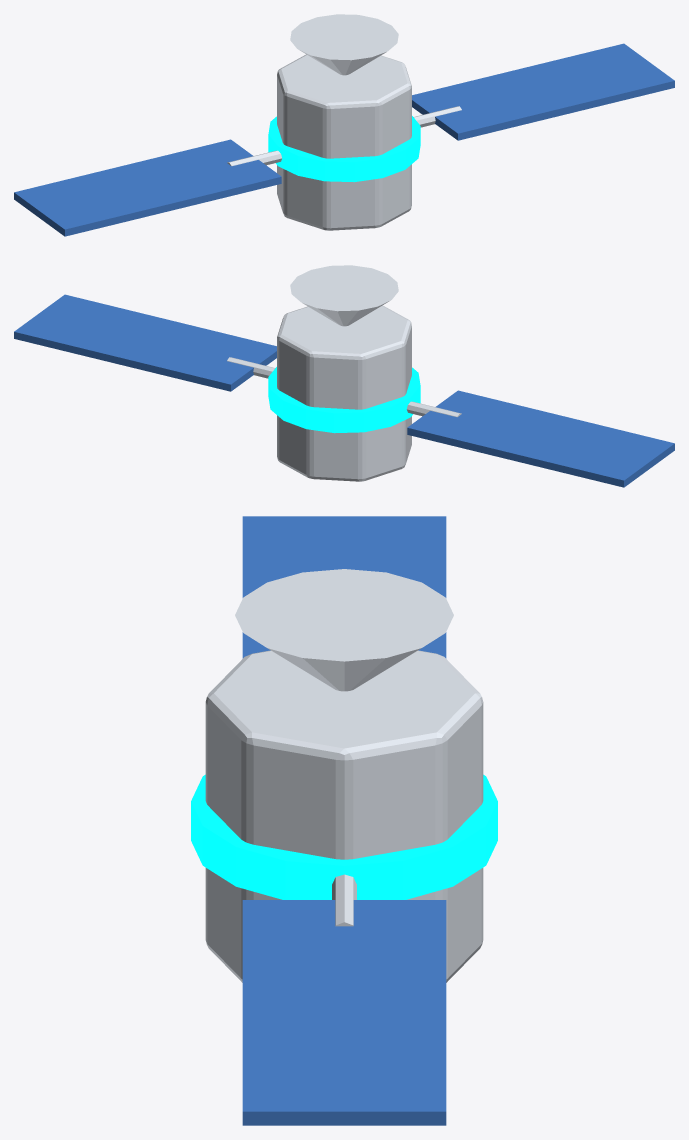
Rendered from satellite_space.glb.
3 views of the same model, one above another, from view 1: azimuth 30°, elevation 25°; view 2: azimuth 150°, elevation 25°; view 3: azimuth 270°, elevation 25° (orthographic). The views are drawn at different scales.
Parts seen in each view (by area): view 1: Cylinder, Cube, Cube.001, Cone, Cylinder.001, Cylinder.002, Cylinder.003; view 2: Cylinder, Cube, Cube.001, Cone, Cylinder.001, Cylinder.002, Cylinder.003; view 3: Cylinder, Cube.001, Cone, Cylinder.001, Cube, Cylinder.003.
Boxes of the visible parts, x1,y1,x2,y2 form: Cylinder: (277,54,411,230); Cube: (14,139,281,236); Cube.001: (412,43,674,140); Cone: (290,14,398,75); Cylinder.001: (268,116,420,182); Cylinder.002: (227,150,282,166); Cylinder.003: (413,106,461,127); Cylinder: (277,305,411,481); Cube: (407,390,674,487); Cube.001: (14,294,276,391); Cone: (290,265,398,326); Cylinder.001: (268,367,420,433); Cylinder.002: (406,401,461,417); Cylinder.003: (227,357,275,378); Cylinder: (205,650,483,982); Cube.001: (242,900,446,1125); Cone: (235,569,453,691); Cylinder.001: (191,774,497,899); Cube: (242,516,446,658); Cylinder.003: (332,874,356,926).
Bounding box in the file's own units: 4.5 × 1.18 × 0.98.
